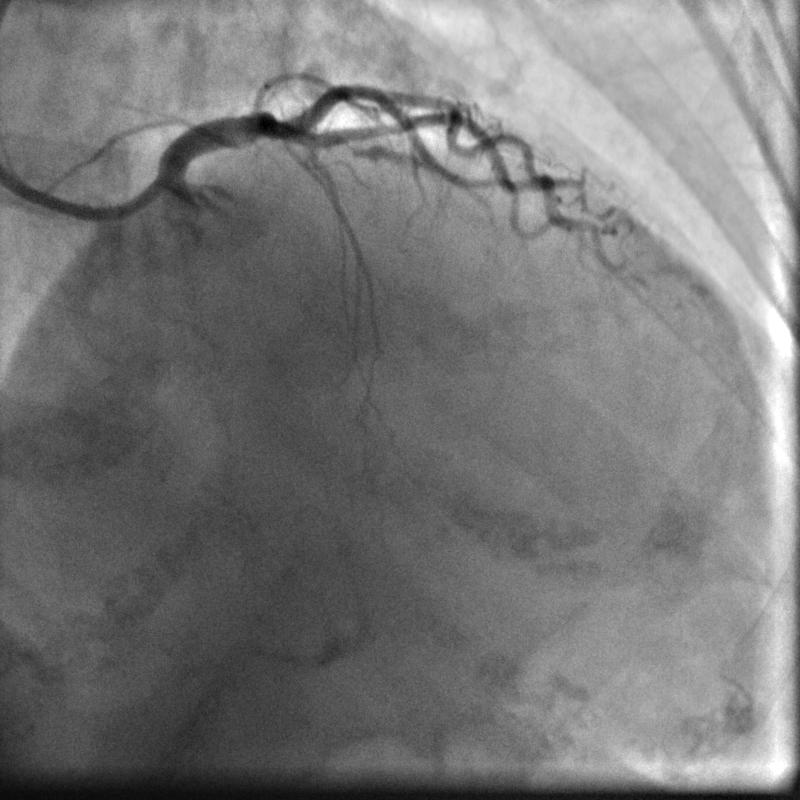Stenosis: (343, 139, 372, 156)
